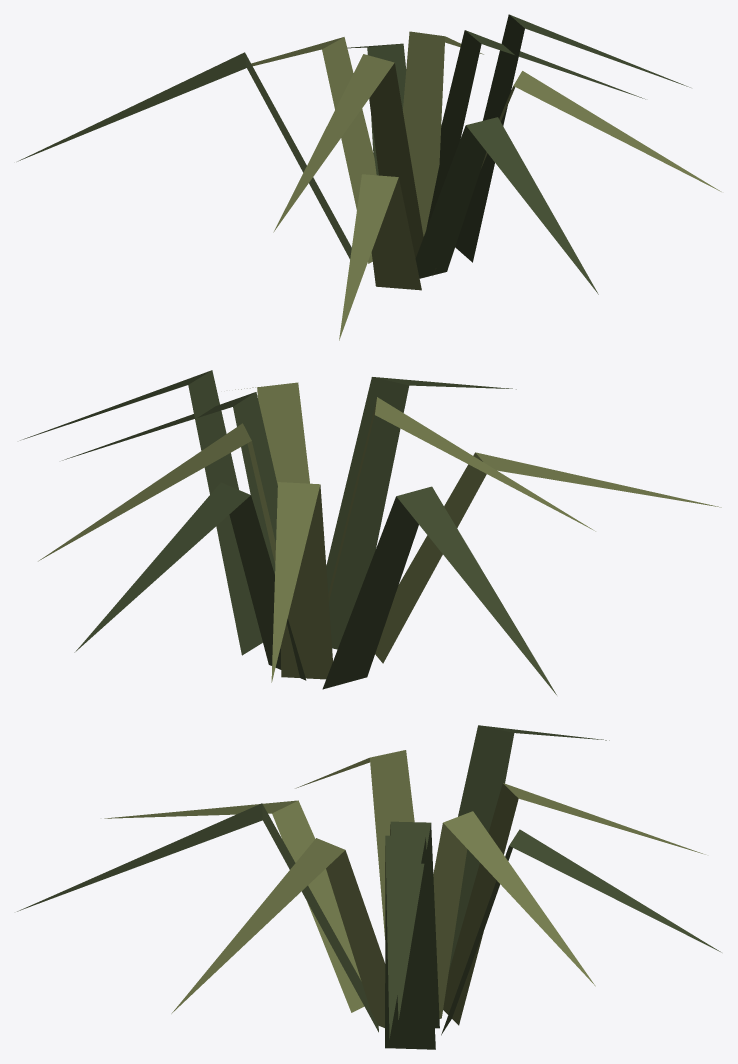
Rendered from hushwood_fern.glb.
3 renders of one model, top to bottom at view 1: azimuth 30°, elevation 25°; view 2: azimuth 150°, elevation 25°; view 3: azimuth 270°, elevation 25°, orthographic. The views are drawn at different scales.
Parts seen in each view (by area): view 1: hushwood_fern; view 2: hushwood_fern; view 3: hushwood_fern.
Boxes of the visible parts, left/top/right/bottom form: hushwood_fern: left=17, top=14, right=721, bottom=340; hushwood_fern: left=20, top=370, right=721, bottom=694; hushwood_fern: left=17, top=725, right=721, bottom=1049.
Size of the model in its own units: 1.07 by 0.399 by 1.05.
